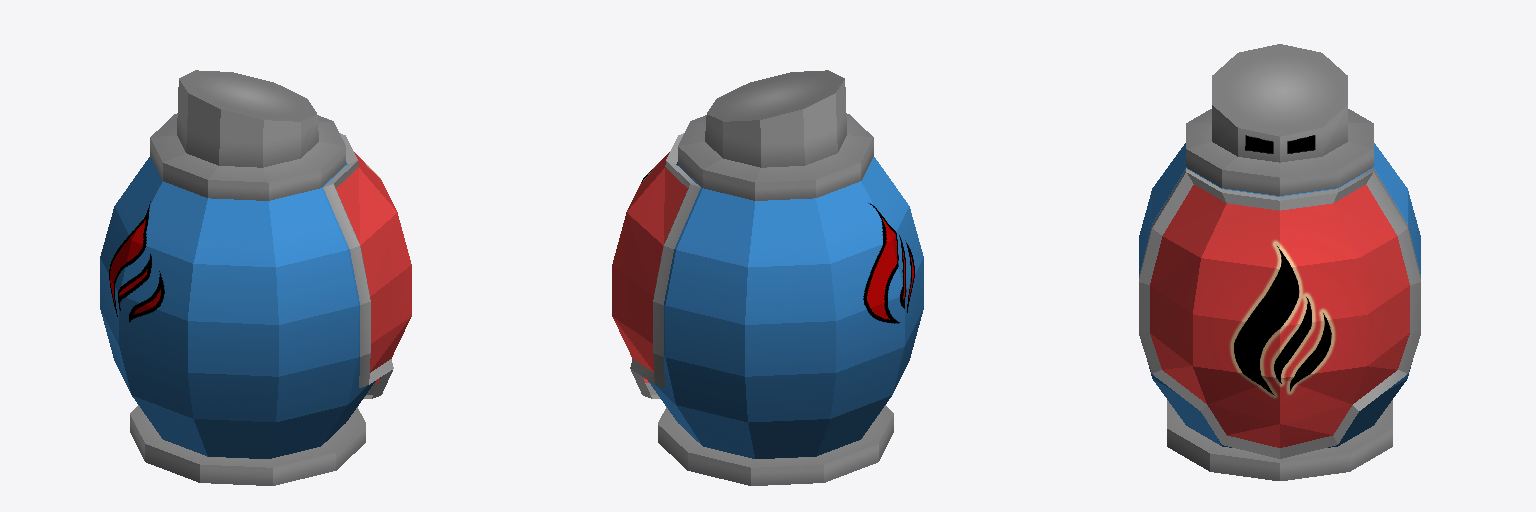
3 views of the same model, side by side, from view 1: azimuth 30°, elevation 25°; view 2: azimuth 150°, elevation 25°; view 3: azimuth 270°, elevation 25° (orthographic).
Visible parts, largest first — view 1: Cylinder001, Object001; view 2: Cylinder001, Object001; view 3: Object001, Cylinder001.
Part boxes in pixels (x1,y1,x2,y2): Cylinder001: (100, 70, 375, 485); Object001: (323, 133, 411, 398); Cylinder001: (648, 70, 923, 485); Object001: (612, 133, 700, 398); Object001: (1139, 168, 1420, 458); Cylinder001: (1139, 44, 1420, 480).
Bounding box in the file's own units: 0.7752 × 0.9711 × 0.6946.
2 materials, 2 textured.